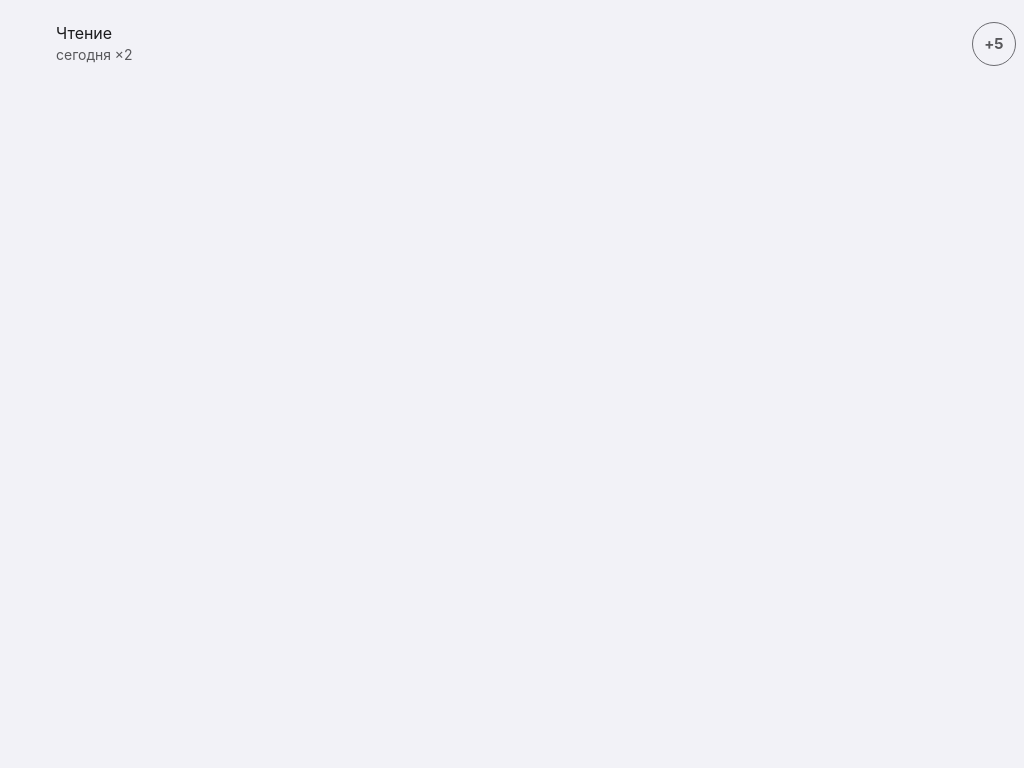
Test: StepRow › stays busy through the same-tap window, keeping the undo toast on screen
Later steps or results of the test are not shown.
Click the button named "Отметить: Чтение, +5 очков": (994,44) [972,22,1016,66]
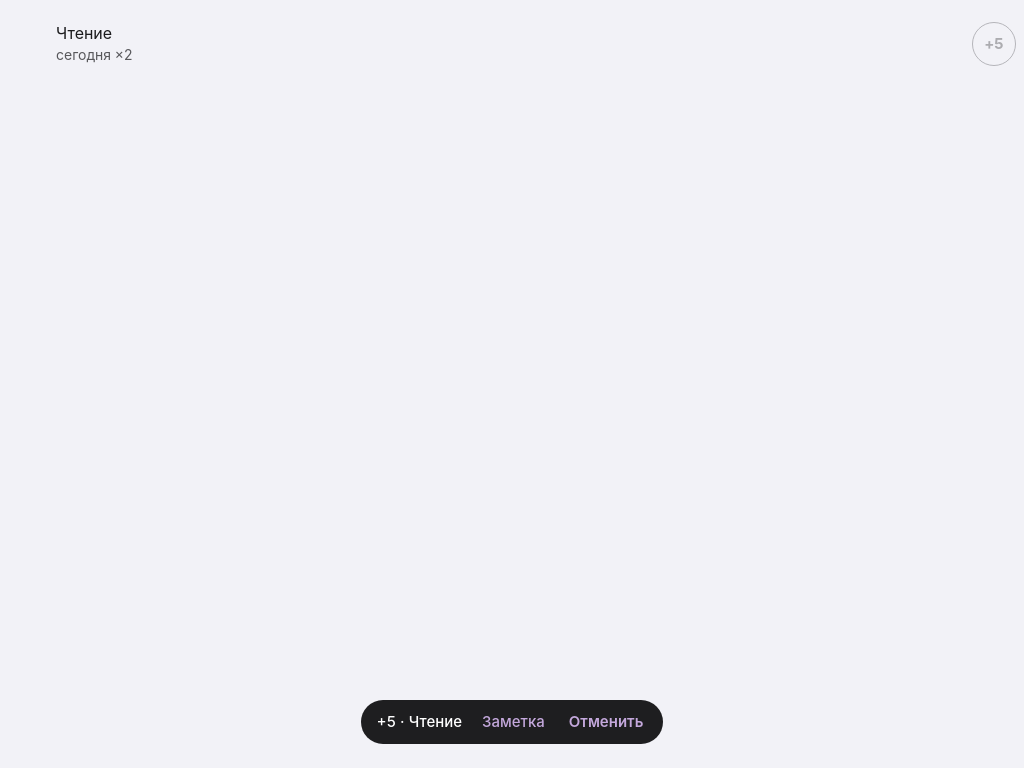
expect the text "+5 · Чтение" is shown: met, box [377,712,462,732]
Click the button named "Отметить: Чтение, +5 очков": (994,44) [972,22,1016,66]
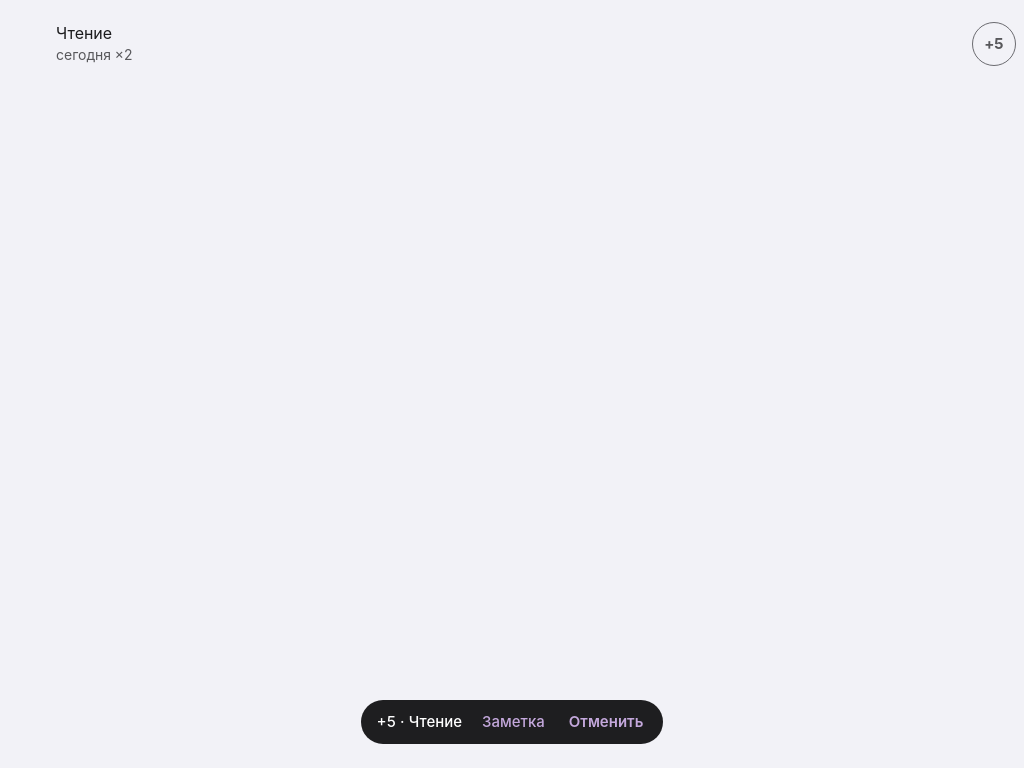
expect the text "+5 · Чтение" is shown: met, box [377,712,462,732]
expect the button "Отменить" is shown: met, box [557,700,655,744]
